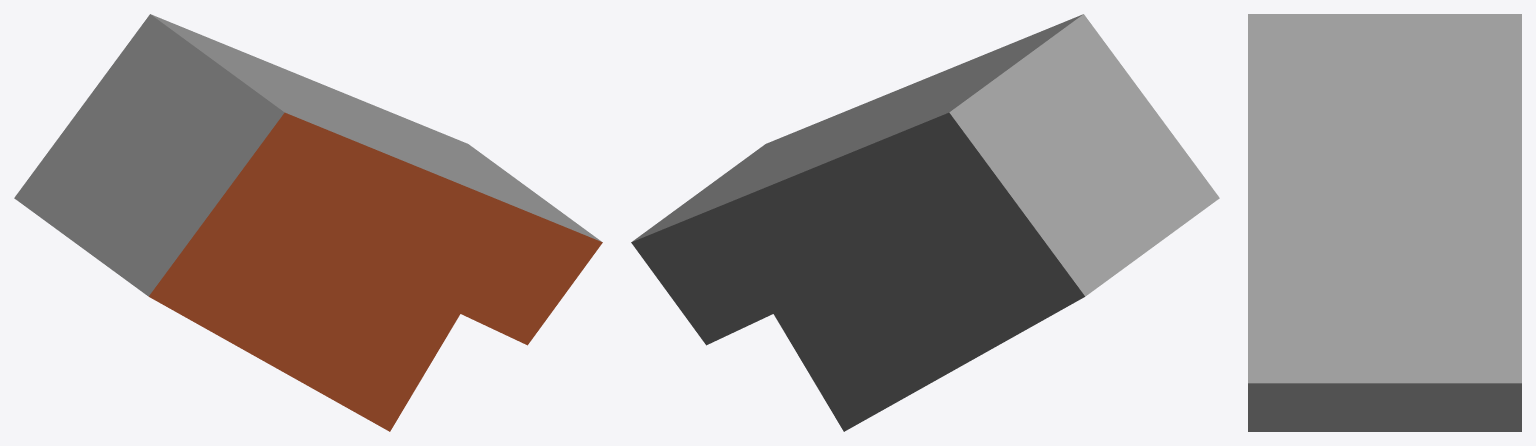
The model's file is construction_6894_assumed_A_Casa_h6m.obj.
3 renders of one model, left to right at view 1: azimuth 30°, elevation 25°; view 2: azimuth 150°, elevation 25°; view 3: azimuth 270°, elevation 25°, orthographic.
Parts seen in each view (by area): view 1: construction_6894_assumed_A_Casa; view 2: construction_6894_assumed_A_Casa; view 3: construction_6894_assumed_A_Casa.
Part boxes in pixels (x1,y1,x2,y2): construction_6894_assumed_A_Casa: (14,14,602,431); construction_6894_assumed_A_Casa: (631,14,1219,431); construction_6894_assumed_A_Casa: (1248,14,1521,431).
Size of the model in its own units: 11.7 by 8.49 by 6.
